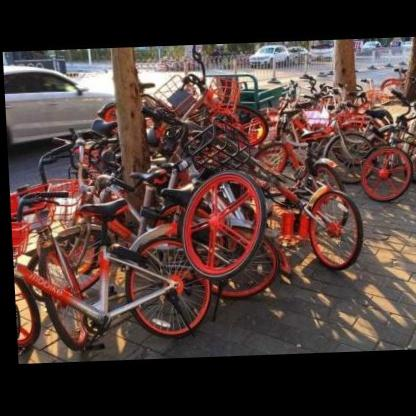Bicycle: (19, 190, 201, 342), (204, 168, 379, 301), (101, 158, 273, 276), (364, 119, 414, 220)
